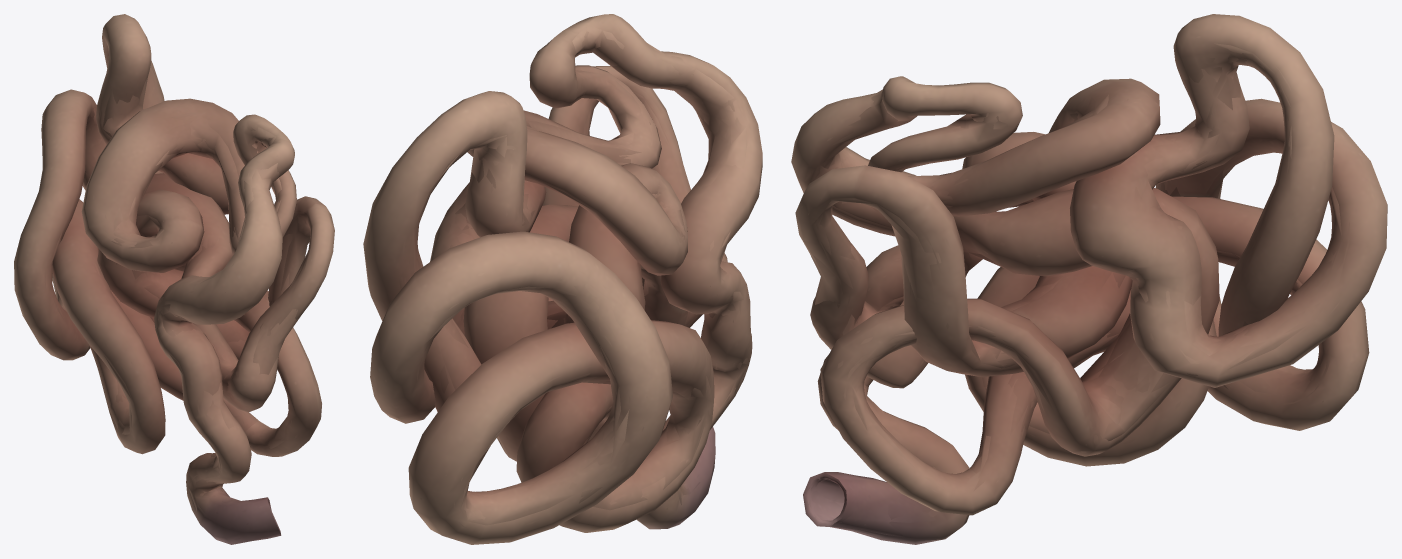
Rendered from Small Intestine.fbx.
The picture shows the model from 3 angles, left to right: view 1: azimuth 30°, elevation 25°; view 2: azimuth 150°, elevation 25°; view 3: azimuth 270°, elevation 25°; orthographic projection. The views are drawn at different scales.
Visible parts, largest first — view 1: Small Intestine, Small Intestine low, Small Intestine high; view 2: Small Intestine, Small Intestine low, Small Intestine high; view 3: Small Intestine, Small Intestine low, Small Intestine high.
Boxes of the visible parts, x1,y1,x2,y2 form: Small Intestine: (14, 14, 334, 544); Small Intestine low: (30, 37, 310, 517); Small Intestine high: (19, 28, 327, 540); Small Intestine: (363, 14, 762, 544); Small Intestine low: (399, 25, 747, 525); Small Intestine high: (374, 17, 751, 540); Small Intestine: (791, 14, 1387, 544); Small Intestine low: (810, 43, 1342, 537); Small Intestine high: (799, 18, 1380, 541).
Size of the model in its own units: 9.16 by 17.95 by 17.88.
Materials: 1 (1 with a texture image).
